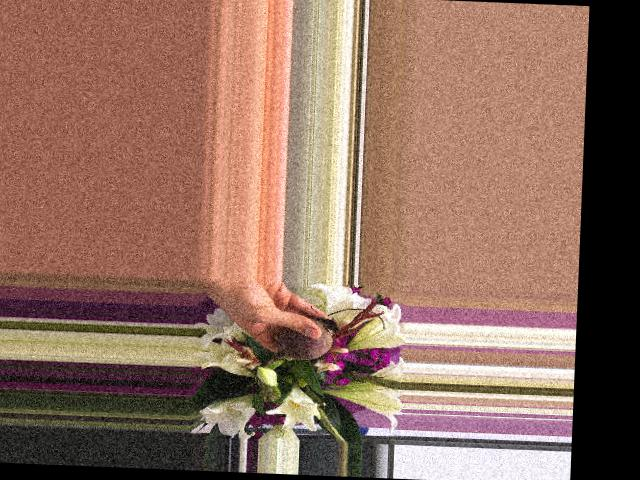beet: (261, 315, 339, 371)
